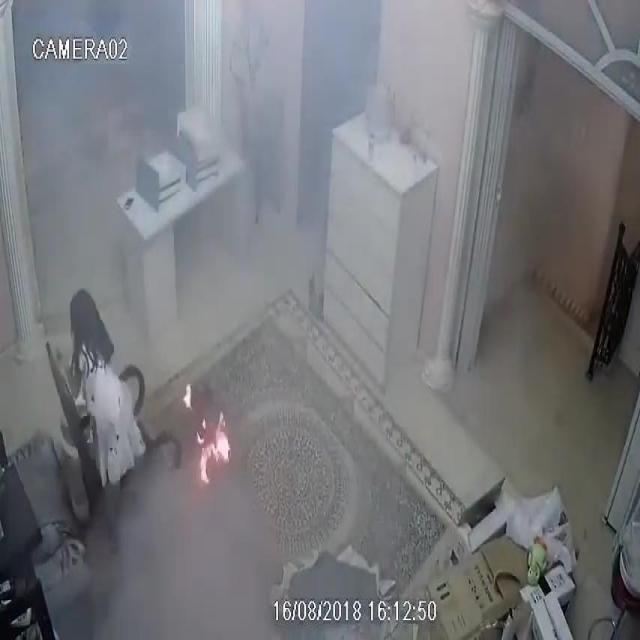fire: (197, 413, 230, 483), (183, 384, 191, 408)
